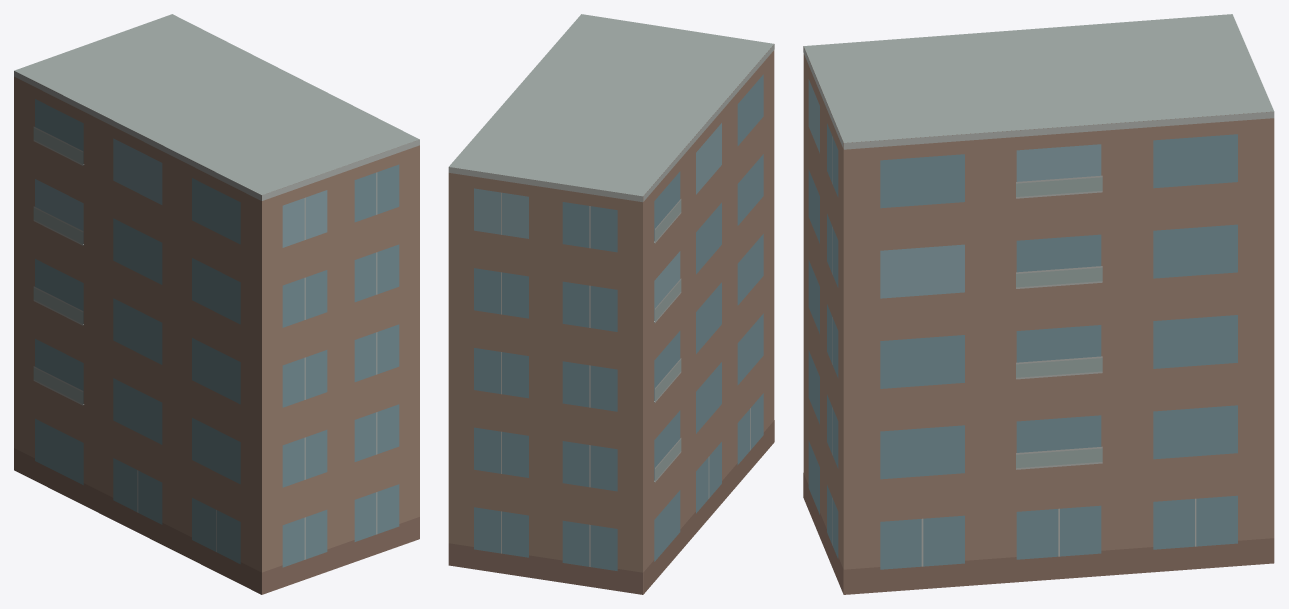
Rendered from survey-upis-33038188.glb.
The picture shows the model from 3 angles, left to right: view 1: azimuth 30°, elevation 25°; view 2: azimuth 150°, elevation 25°; view 3: azimuth 270°, elevation 25°; orthographic projection. The views are drawn at different scales.
Visible parts, largest first — view 1: survey-upis-33038188.tmp; view 2: survey-upis-33038188.tmp; view 3: survey-upis-33038188.tmp.
Part boxes in pixels (x1,y1,x2,y2): survey-upis-33038188.tmp: (14, 14, 419, 594); survey-upis-33038188.tmp: (448, 14, 774, 594); survey-upis-33038188.tmp: (803, 14, 1274, 594).
Size of the model in its own units: 10.15 by 16.55 by 15.64.
